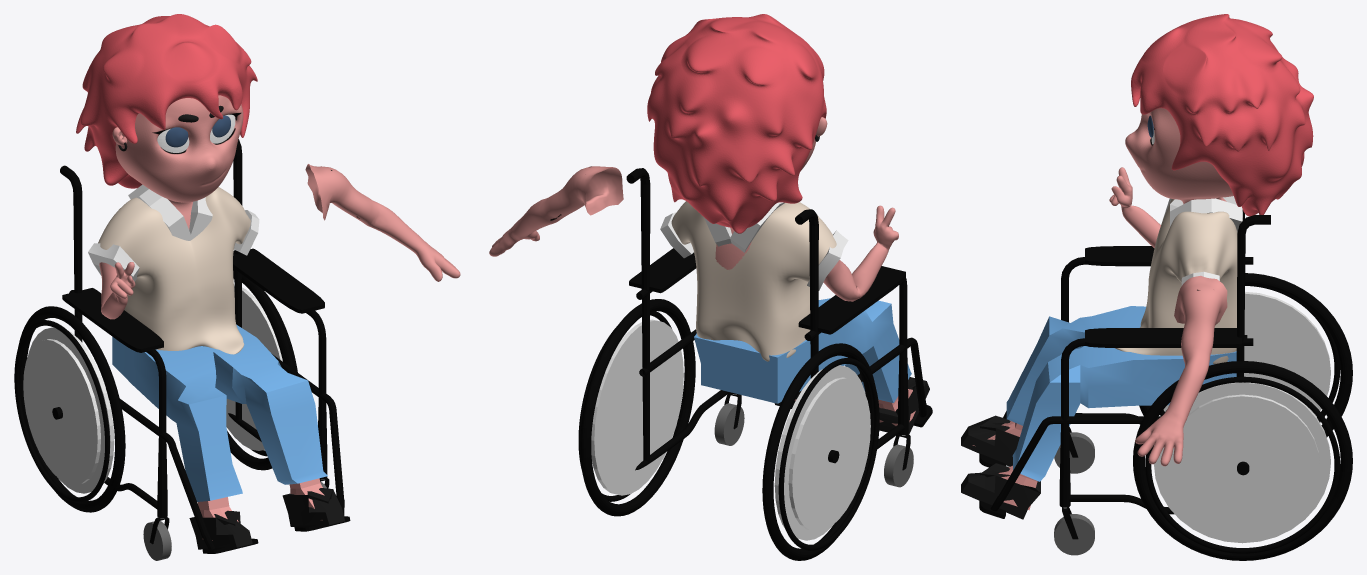
The model's file is personaje-4.glb.
The picture shows the model from 3 angles, left to right: view 1: azimuth 30°, elevation 25°; view 2: azimuth 150°, elevation 25°; view 3: azimuth 270°, elevation 25°; orthographic projection. The views are drawn at different scales.
Visible parts, largest first — view 1: Cube.007, Cube.002, Cube.005, Cylinder.013, Test, Circle.001, Cylinder, Cube.009, arm+shoulder, Cylinder.012, Cube.004, Circle.004 (+9 smaller); view 2: Cube.002, Cube.005, Cylinder.012, Circle.001, Cylinder.013, Cube.007, arm+shoulder, Cylinder.002, Cube.009, Circle.004, Cylinder, arm+shoulder.002 (+7 smaller); view 3: Cube.002, Cylinder.013, Cube.007, Cylinder.012, Circle.001, Cube.005, arm+shoulder, Test, Cube.004, Cylinder, Cube.009, Circle.004 (+6 smaller).
Part boxes in pixels (x1,y1,x2,y2): Cube.007: (112,324,327,501); Cube.002: (76,14,257,188); Cube.005: (98,187,250,354); Cylinder.013: (23,300,258,485); Test: (115,95,243,229); Circle.001: (18,268,295,512); Cylinder: (69,251,344,549); Cube.009: (62,248,324,352); arm+shoulder: (305,164,460,281); Cylinder.012: (28,284,282,493); Cube.004: (189,488,344,549); Circle.004: (14,278,297,502); Cube.002: (647,14,826,233); Cube.005: (671,201,836,361); Cylinder.012: (591,319,865,540); Circle.001: (580,299,875,560); Cylinder.013: (592,338,870,531); Cube.007: (694,298,911,403); arm+shoulder: (489,166,623,256); Cylinder.002: (626,168,818,462); Cube.009: (629,248,905,334); Circle.004: (578,311,879,550); Cylinder: (636,278,926,435); arm+shoulder.002: (823,205,898,301); Cube.002: (1131,14,1313,216); Cylinder.013: (1164,394,1319,536); Cube.007: (1006,306,1236,481); Cylinder.012: (1154,291,1330,543); Circle.001: (1133,273,1352,560); Cube.005: (1115,199,1237,364); arm+shoulder: (1135,275,1227,466); Test: (1125,108,1233,204); Cube.004: (961,415,1040,519); Cylinder: (990,257,1253,511); Cube.009: (1085,246,1241,347); Circle.004: (1145,285,1340,553).
Bounding box in the file's own units: 0.8208 × 1.01 × 0.7315.
11 materials, 1 textured.
